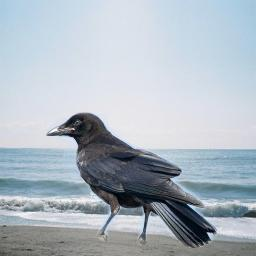Crow: (46, 112, 217, 248)
